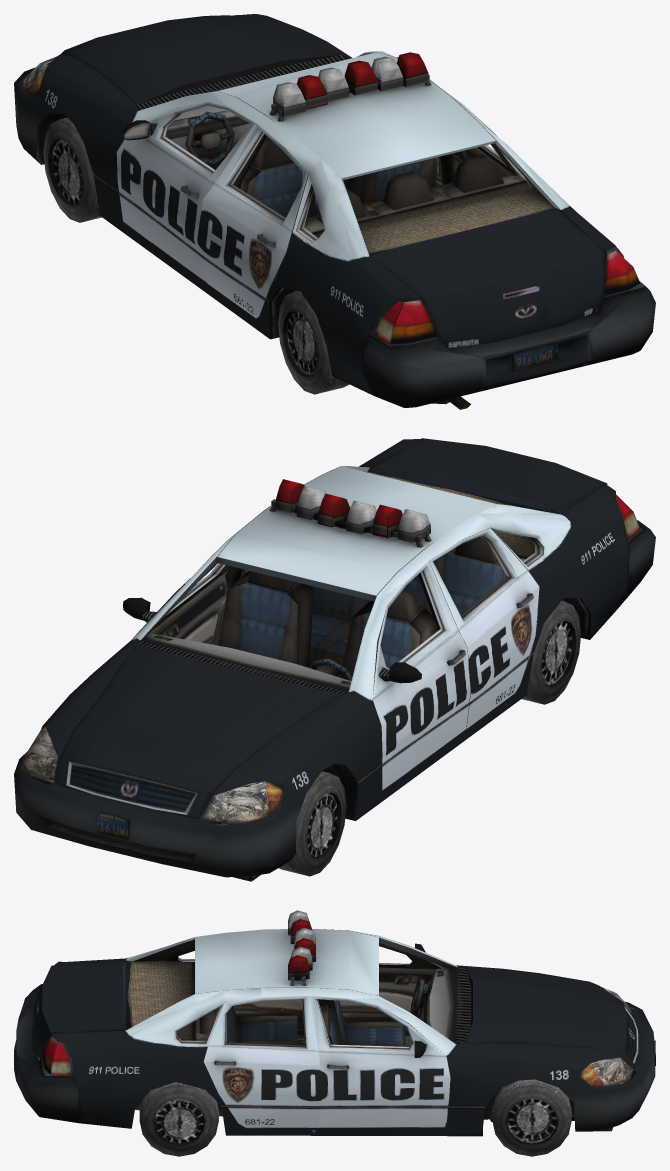
The model's file is Model_Cars_PoliceCar.fbx.
3 renders of one model, top to bottom at view 1: azimuth 30°, elevation 25°; view 2: azimuth 150°, elevation 25°; view 3: azimuth 270°, elevation 25°, orthographic. The views are drawn at different scales.
Visible parts, largest first — view 1: Car_Body, LF_Wheel, LB_Wheel; view 2: Car_Body, LF_Wheel, LB_Wheel; view 3: Car_Body, RF_Wheel, RB_Wheel.
Part boxes in pixels (left/top/right/bottom): Car_Body: left=14, top=14, right=655, bottom=409; LF_Wheel: left=43, top=118, right=101, bottom=222; LB_Wheel: left=278, top=291, right=349, bottom=394; Car_Body: left=14, top=438, right=655, bottom=881; LF_Wheel: left=278, top=771, right=346, bottom=876; LB_Wheel: left=522, top=600, right=581, bottom=704; Car_Body: left=14, top=910, right=655, bottom=1136; RF_Wheel: left=492, top=1079, right=571, bottom=1156; RB_Wheel: left=139, top=1082, right=218, bottom=1156.
Size of the model in its own units: 235 by 175 by 582.
